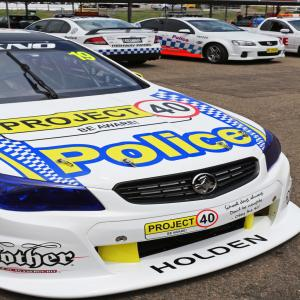Vehicle-registration-plate: (266, 50, 280, 54)
